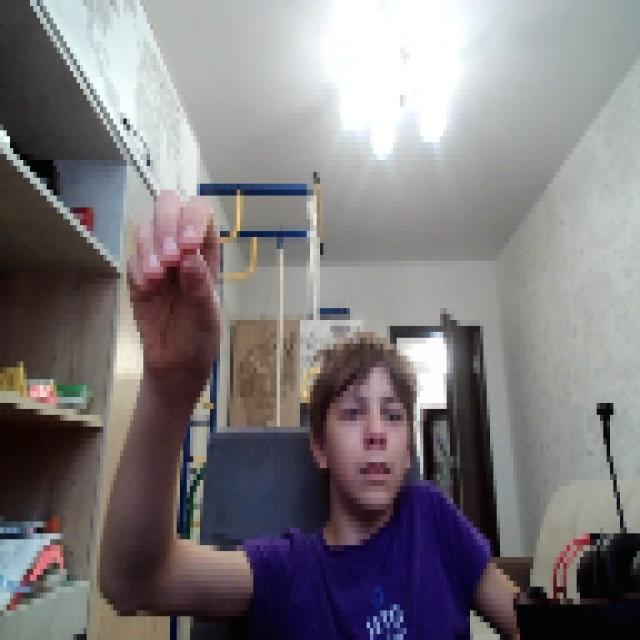left_click: (123, 184, 220, 373)
